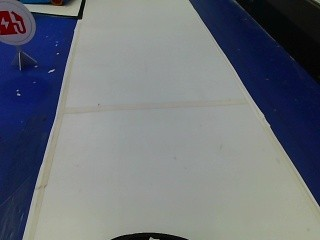battery: (0, 3, 33, 44)
